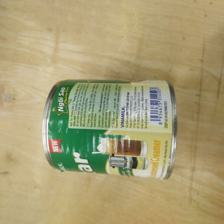NSPN_Lon: (42, 80, 176, 179)
